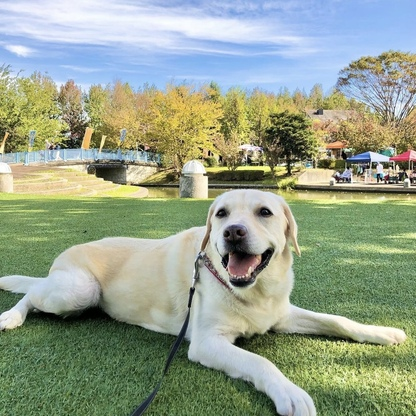labrado: (1, 182, 411, 416)
